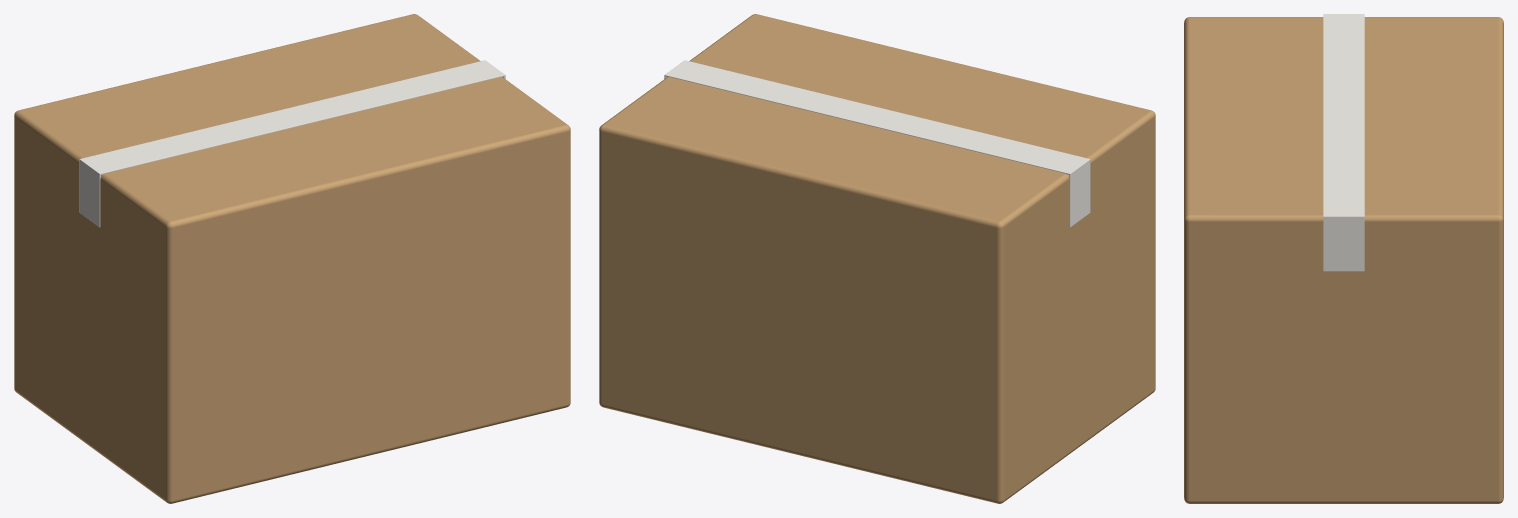
The picture shows the model from 3 angles, left to right: view 1: azimuth 30°, elevation 25°; view 2: azimuth 150°, elevation 25°; view 3: azimuth 270°, elevation 25°; orthographic projection. The views are drawn at different scales.
Visible parts, largest first — view 1: box_cardboard, box_white; view 2: box_cardboard, box_white; view 3: box_cardboard, box_white.
Part boxes in pixels (bbox=[...]): box_cardboard: bbox=[14, 14, 570, 503]; box_white: bbox=[79, 60, 505, 227]; box_cardboard: bbox=[599, 14, 1155, 503]; box_white: bbox=[664, 60, 1090, 227]; box_cardboard: bbox=[1184, 17, 1503, 503]; box_white: bbox=[1323, 14, 1364, 271].
Bounding box in the file's own units: 0.6 × 0.4 × 0.4.
